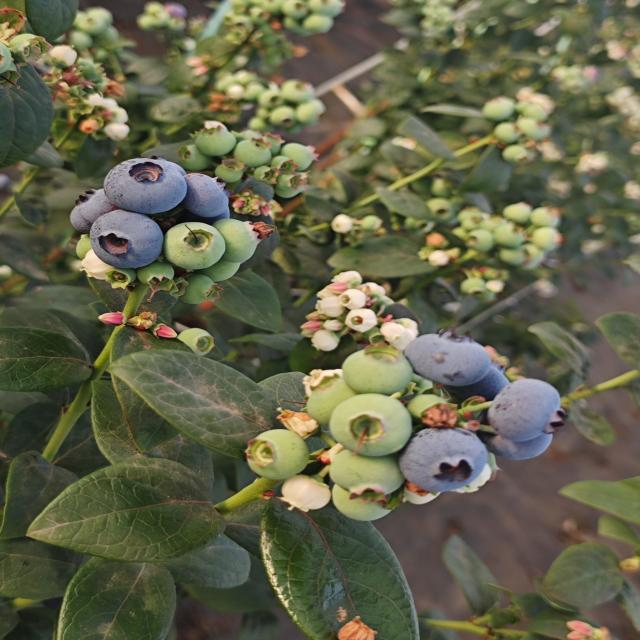ripe: (397, 424, 492, 496), (100, 155, 190, 216), (86, 208, 165, 271), (499, 379, 561, 449), (409, 338, 498, 383), (56, 178, 127, 230), (490, 421, 562, 464), (173, 170, 236, 218)
